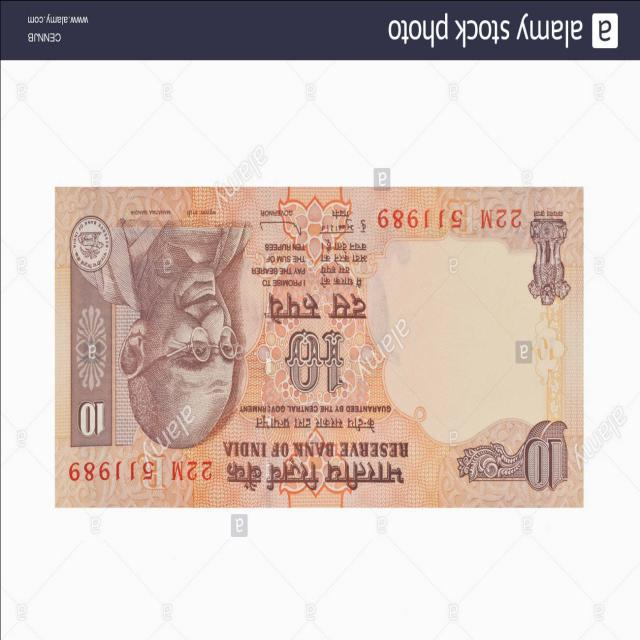10IndianRupees: (54, 188, 584, 506)
